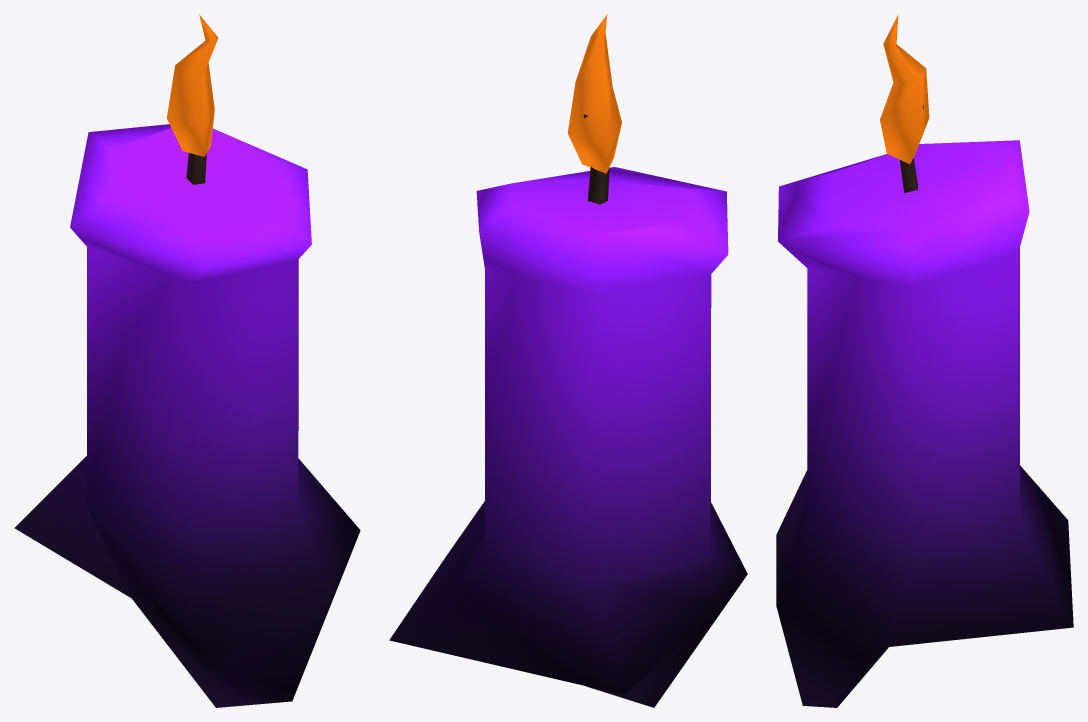
The model's file is CandleShapeE.024.glb.
3 renders of one model, left to right at view 1: azimuth 30°, elevation 25°; view 2: azimuth 150°, elevation 25°; view 3: azimuth 270°, elevation 25°, orthographic. The views are drawn at different scales.
Parts seen in each view (by area): view 1: CandleShapeE.024; view 2: CandleShapeE.024; view 3: CandleShapeE.024.
Boxes of the visible parts, left/top/right/bottom form: CandleShapeE.024: left=14, top=14, right=360, bottom=707; CandleShapeE.024: left=389, top=14, right=747, bottom=707; CandleShapeE.024: left=776, top=15, right=1073, bottom=707.
Bounding box in the file's own units: 0.1424 × 0.327 × 0.1308.
2 materials, 2 textured.
